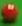red: (0, 0, 22, 26)
